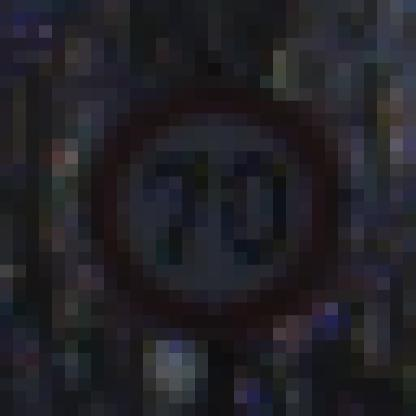Speed Limit 70: (90, 91, 342, 331)
